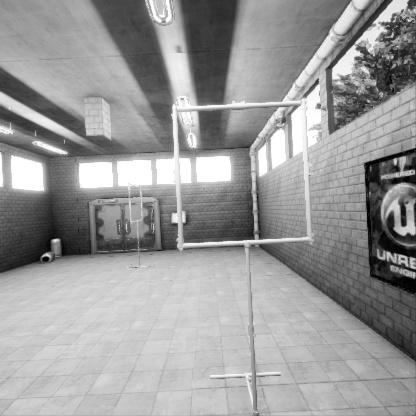gate: (175, 172, 326, 324), (128, 194, 142, 234)
